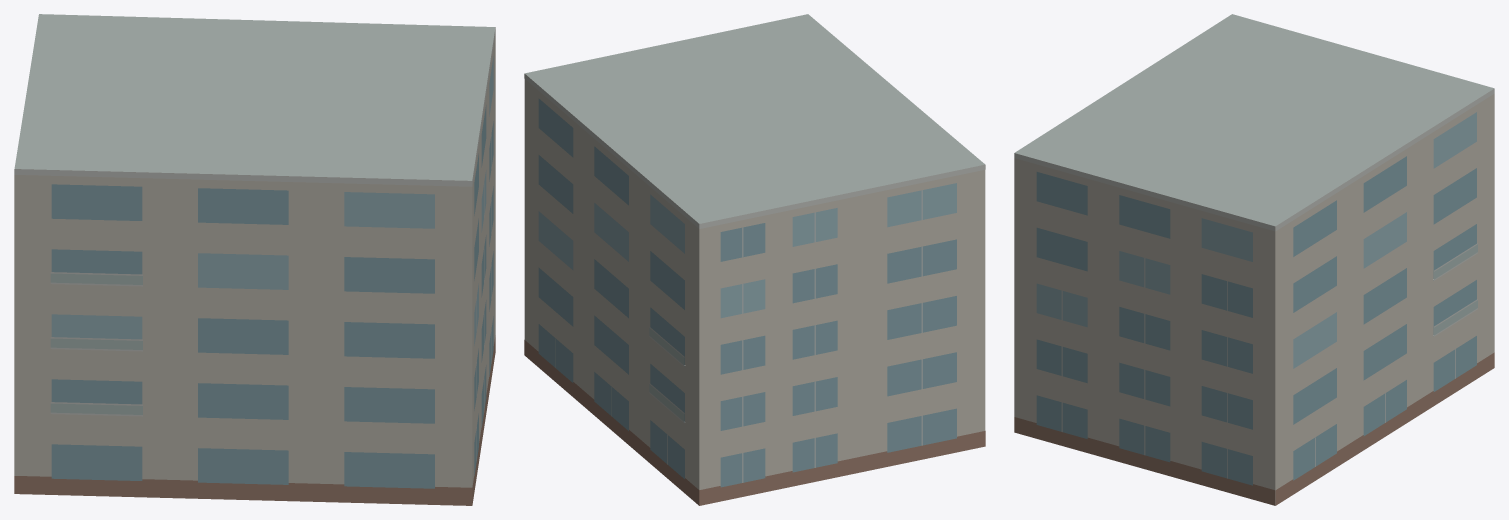
File: survey-upis-32486698.glb
3 renders of one model, left to right at view 1: azimuth 30°, elevation 25°; view 2: azimuth 150°, elevation 25°; view 3: azimuth 270°, elevation 25°, orthographic. The views are drawn at different scales.
Parts seen in each view (by area): view 1: survey-upis-32486698.tmp; view 2: survey-upis-32486698.tmp; view 3: survey-upis-32486698.tmp.
Part boxes in pixels (x1=…): survey-upis-32486698.tmp: x1=14, y1=14, x2=495, y2=505; survey-upis-32486698.tmp: x1=524, y1=14, x2=985, y2=505; survey-upis-32486698.tmp: x1=1014, y1=14, x2=1494, y2=505.
Bounding box in the file's own units: 21.85 × 13.4 × 20.89.
